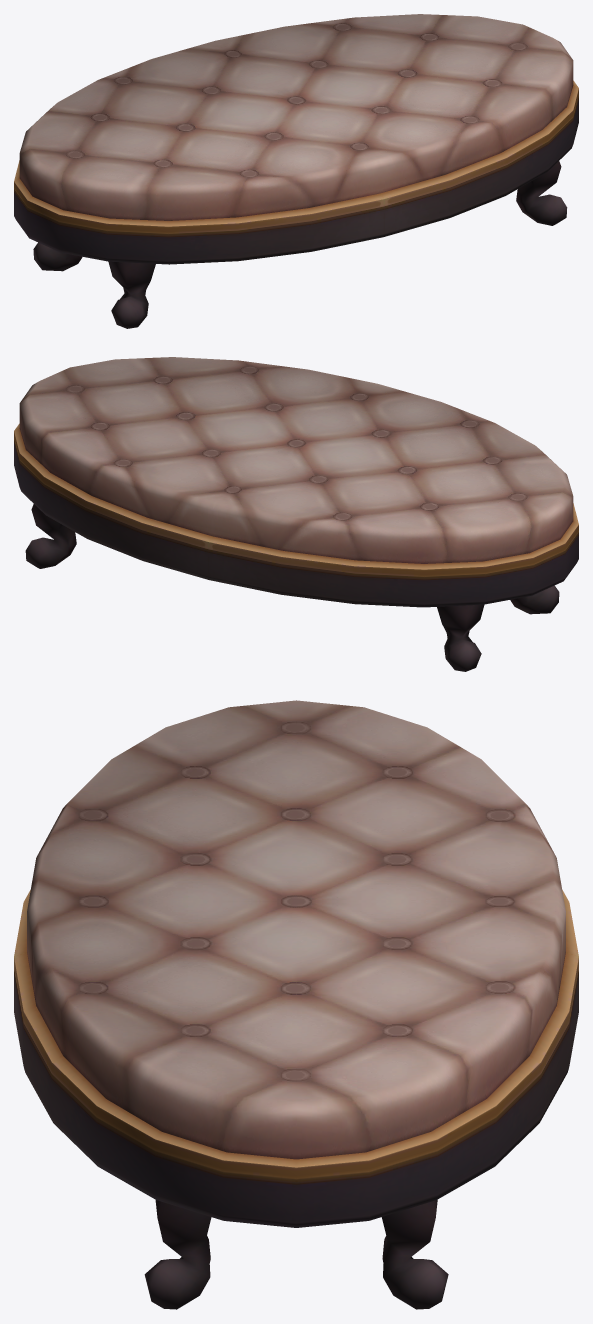
The model's file is furn_syp2017_bed_001.gltf.
3 renders of one model, top to bottom at view 1: azimuth 30°, elevation 25°; view 2: azimuth 150°, elevation 25°; view 3: azimuth 270°, elevation 25°, orthographic. The views are drawn at different scales.
Visible parts, largest first — view 1: syp2017_bed_001; view 2: syp2017_bed_001; view 3: syp2017_bed_001.
Boxes of the visible parts, x1,y1,x2,y2 form: syp2017_bed_001: [14, 14, 578, 328]; syp2017_bed_001: [14, 357, 578, 671]; syp2017_bed_001: [14, 700, 578, 1309].
Bounding box in the file's own units: 1.08 × 0.2833 × 0.6116.
1 material, 1 textured.
